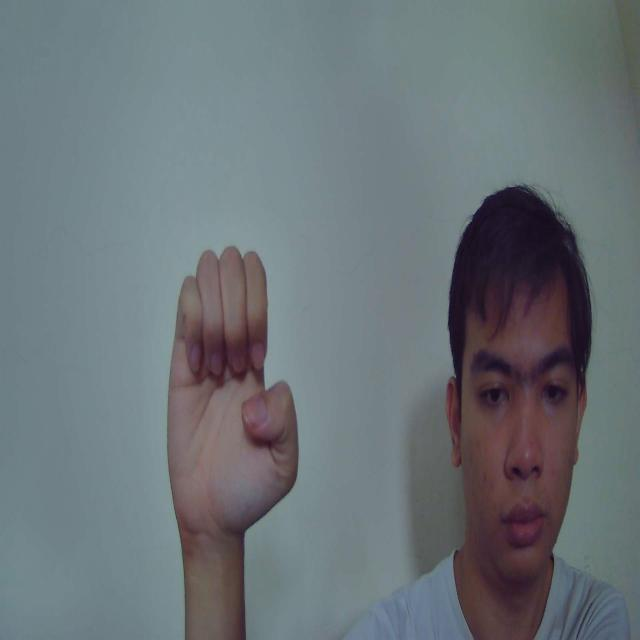E: (167, 247, 299, 535)
